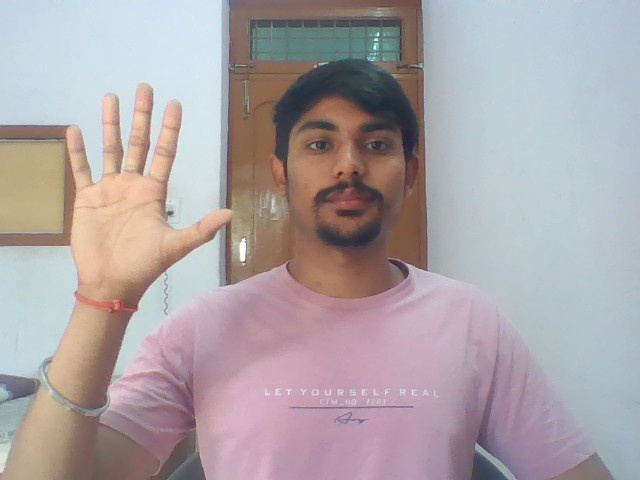Hello: (47, 80, 239, 286)
